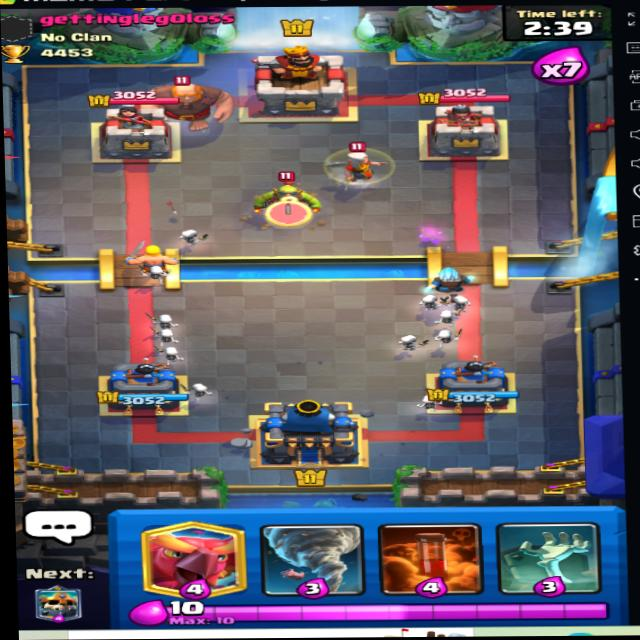battle-healer: (312, 130, 401, 187)
giant: (144, 68, 227, 128)
goblin-demolisher: (247, 167, 325, 222)
